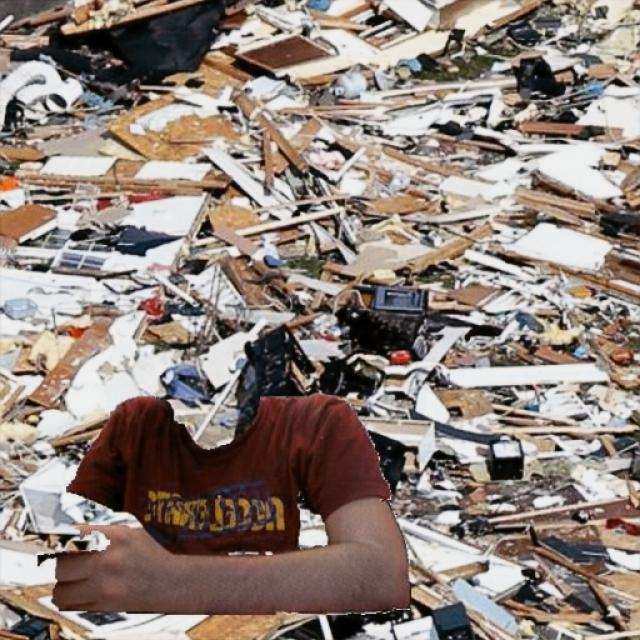Person in Rubble: (38, 392, 410, 614)
